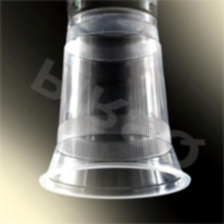glass: (36, 2, 197, 205)
